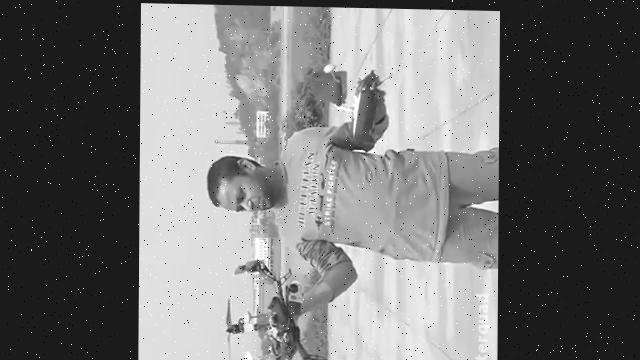drone: (219, 252, 333, 360)
